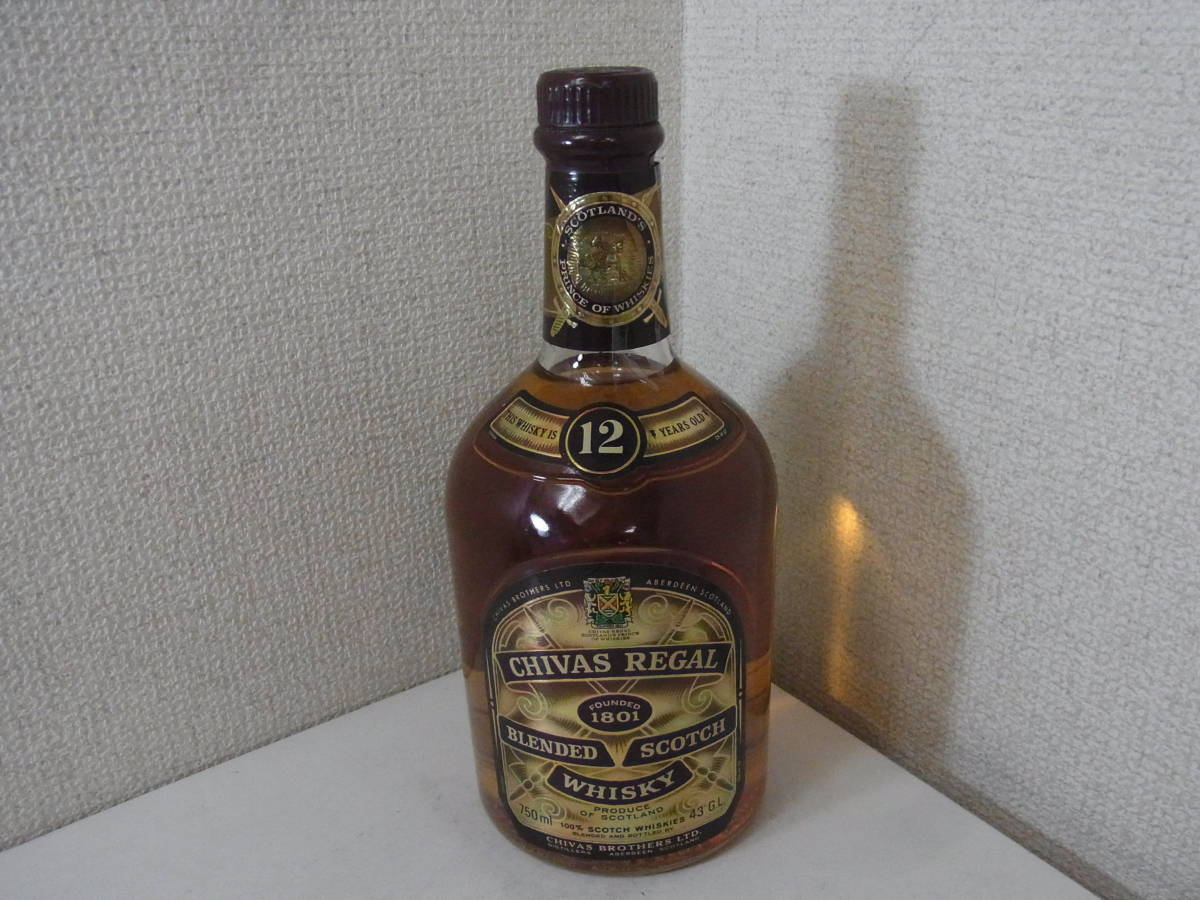Chivas Regal: (436, 59, 787, 884)
